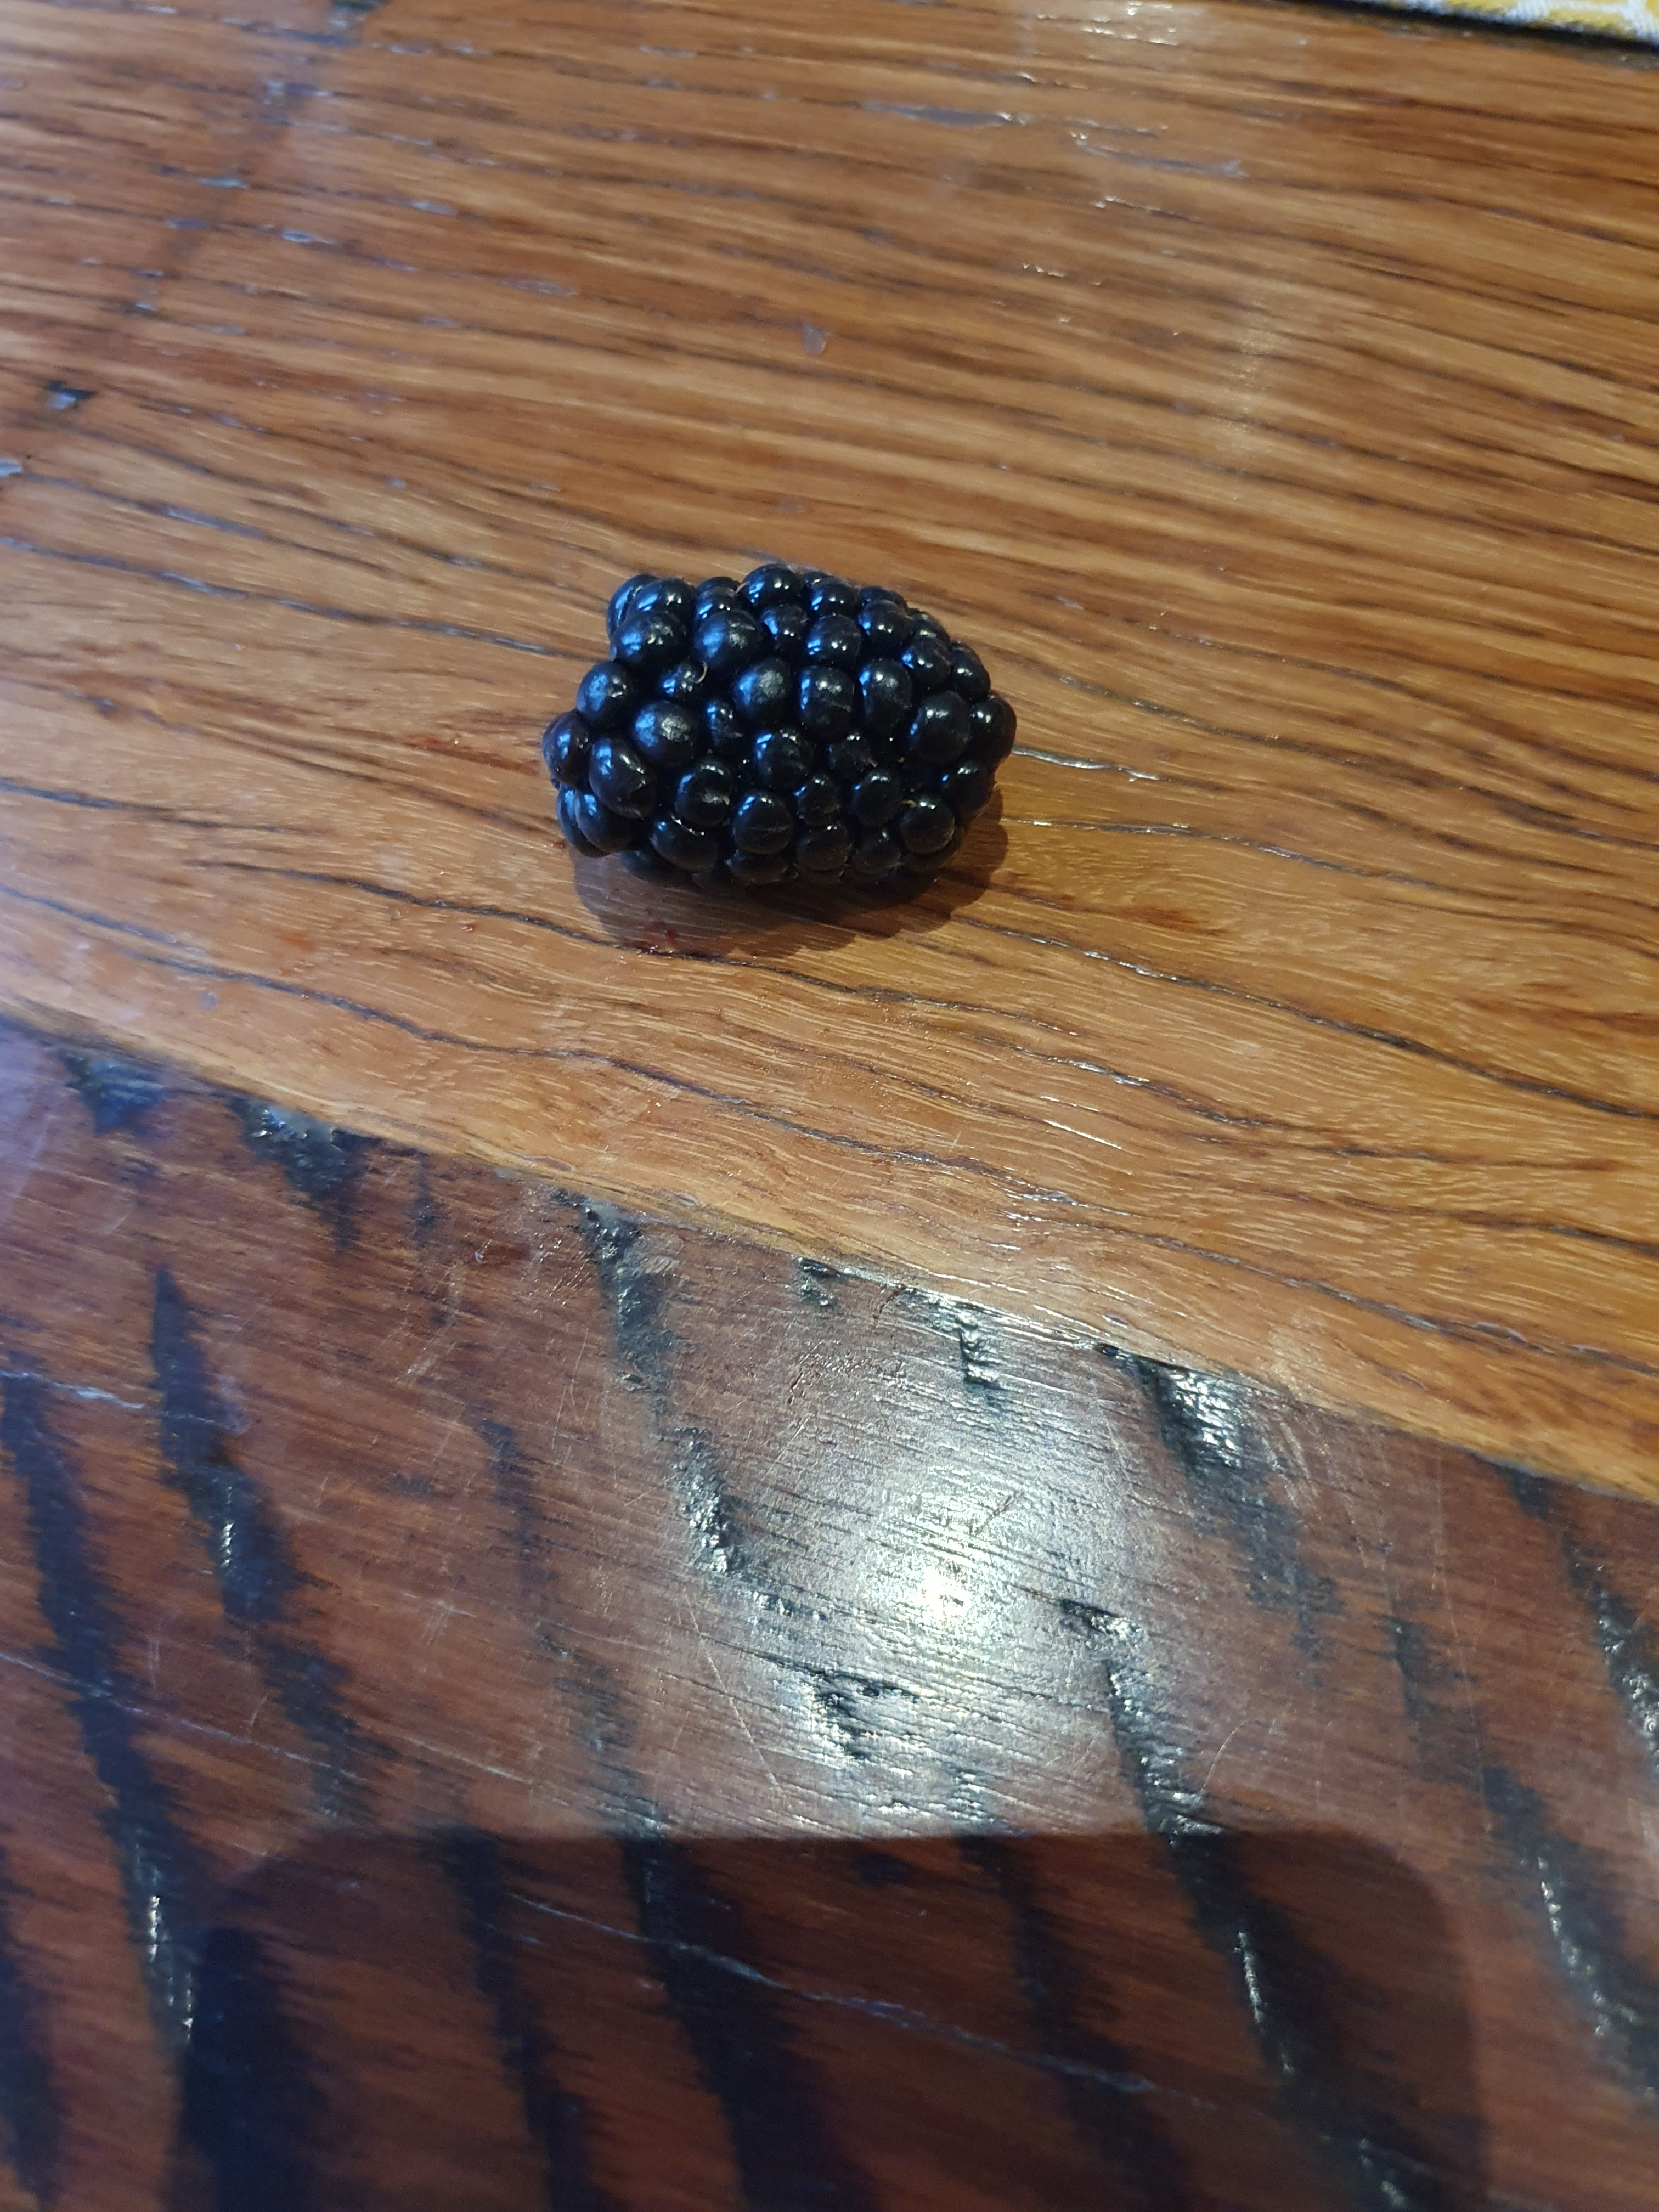blackberry: (443, 503, 1046, 963)
